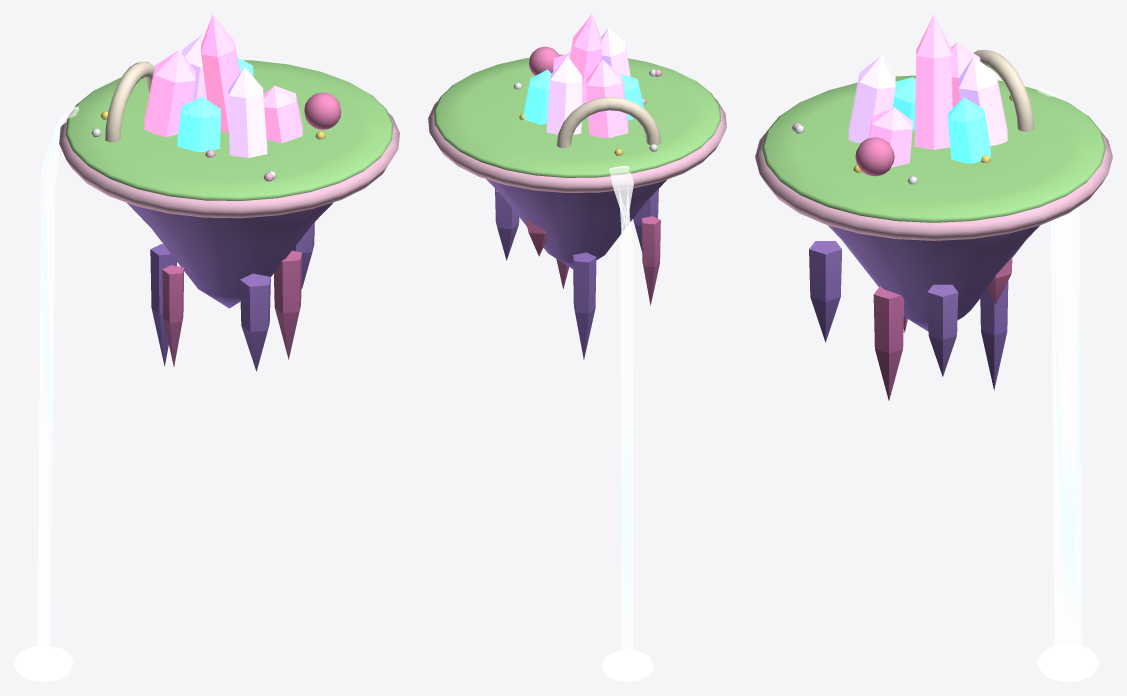
Rendered from bg_islet_c.glb.
3 views of the same model, side by side, from view 1: azimuth 30°, elevation 25°; view 2: azimuth 150°, elevation 25°; view 3: azimuth 270°, elevation 25° (orthographic). The views are drawn at different scales.
Visible parts, largest first — view 1: M_Islet_c__is_grass, M_Islet_c__is_rock, M_Islet_c__is_cry0, M_Islet_c__is_water, M_Islet_c__is_rim, M_Islet_c__is_rock2, M_Islet_c__is_cry2, M_Islet_c__is_cry1, M_Islet_c__is_foam, M_Islet_c__is_cream, M_Islet_c__is_gb; view 2: M_Islet_c__is_grass, M_Islet_c__is_rock, M_Islet_c__is_water, M_Islet_c__is_rim, M_Islet_c__is_cry0, M_Islet_c__is_cry2, M_Islet_c__is_cream, M_Islet_c__is_rock2, M_Islet_c__is_cry1, M_Islet_c__is_foam, M_Islet_c__is_gb; view 3: M_Islet_c__is_grass, M_Islet_c__is_rock, M_Islet_c__is_water, M_Islet_c__is_rim, M_Islet_c__is_cry0, M_Islet_c__is_cry2, M_Islet_c__is_rock2, M_Islet_c__is_cry1, M_Islet_c__is_foam, M_Islet_c__is_cream, M_Islet_c__is_gb.
Part boxes in pixels (left/top/right/bottom): M_Islet_c__is_grass: left=65, top=60, right=393, bottom=200; M_Islet_c__is_rock: left=127, top=202, right=333, bottom=371; M_Islet_c__is_cry0: left=144, top=14, right=302, bottom=143; M_Islet_c__is_water: left=37, top=106, right=78, bottom=655; M_Islet_c__is_rim: left=59, top=111, right=399, bottom=218; M_Islet_c__is_rock2: left=162, top=250, right=301, bottom=366; M_Islet_c__is_cry2: left=182, top=34, right=267, bottom=157; M_Islet_c__is_cry1: left=177, top=57, right=253, bottom=152; M_Islet_c__is_foam: left=14, top=646, right=73, bottom=681; M_Islet_c__is_cream: left=105, top=61, right=154, bottom=142; M_Islet_c__is_gb: left=304, top=92, right=341, bottom=129; M_Islet_c__is_grass: left=434, top=54, right=720, bottom=177; M_Islet_c__is_rock: left=486, top=179, right=667, bottom=359; M_Islet_c__is_water: left=609, top=166, right=633, bottom=658; M_Islet_c__is_rim: left=428, top=98, right=726, bottom=192; M_Islet_c__is_cry0: left=553, top=14, right=628, bottom=138; M_Islet_c__is_cry2: left=546, top=28, right=630, bottom=134; M_Islet_c__is_cream: left=556, top=97, right=660, bottom=148; M_Islet_c__is_rock2: left=526, top=216, right=660, bottom=305; M_Islet_c__is_cry1: left=523, top=69, right=643, bottom=124; M_Islet_c__is_foam: left=601, top=650, right=653, bottom=681; M_Islet_c__is_gb: left=529, top=46, right=559, bottom=75; M_Islet_c__is_grass: left=762, top=75, right=1105, bottom=222; M_Islet_c__is_rock: left=809, top=225, right=1039, bottom=390; M_Islet_c__is_water: left=1036, top=88, right=1081, bottom=650; M_Islet_c__is_rim: left=755, top=133, right=1112, bottom=240; M_Islet_c__is_cry0: left=868, top=14, right=980, bottom=167; M_Islet_c__is_cry2: left=848, top=55, right=1007, bottom=146; M_Islet_c__is_rock2: left=873, top=257, right=1012, bottom=400; M_Islet_c__is_cry1: left=892, top=77, right=990, bottom=163; M_Islet_c__is_foam: left=1036, top=644, right=1099, bottom=681; M_Islet_c__is_cream: left=974, top=50, right=1034, bottom=131; M_Islet_c__is_gb: left=855, top=137, right=894, bottom=176.
Bounding box in the file's own units: 14.56 × 32.19 × 14.56.
